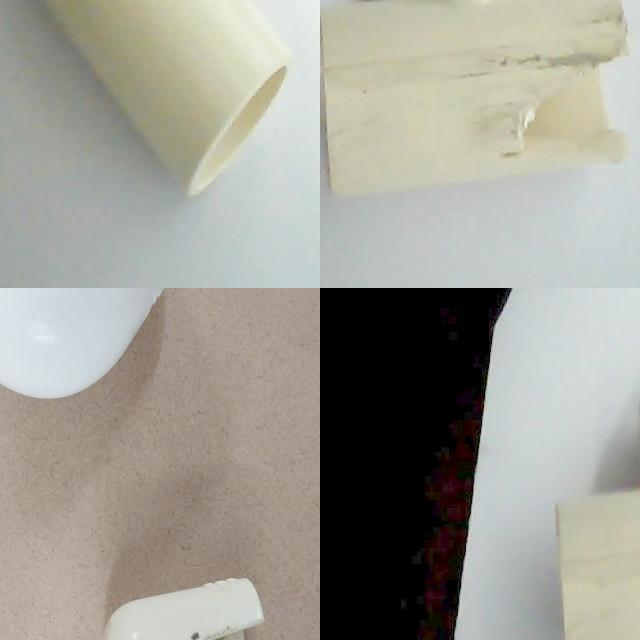Defective: (501, 70, 629, 176), (1, 456, 46, 559)
L Joint: (0, 452, 166, 640)
T Joint: (320, 0, 631, 203), (37, 0, 294, 201)
